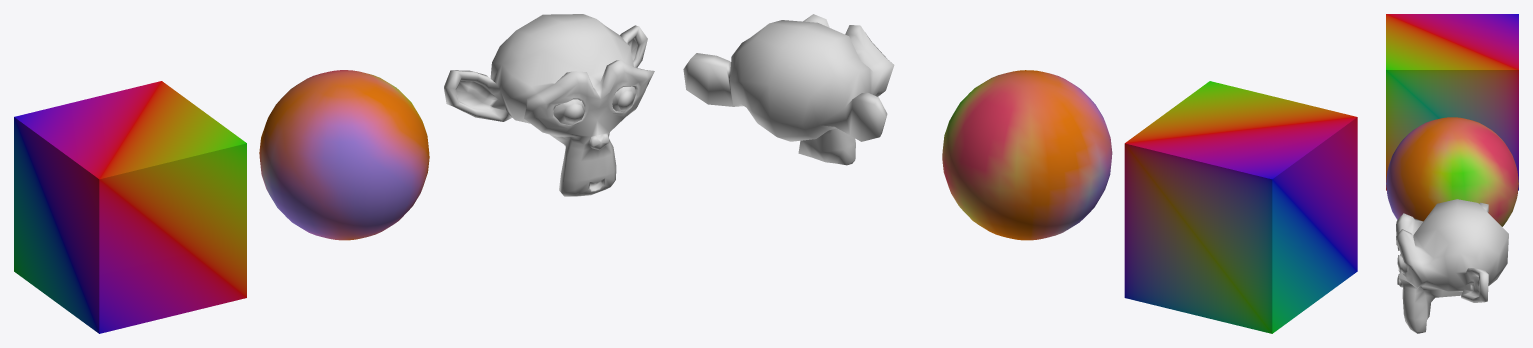
The model's file is test sphere metallic.glb.
3 views of the same model, side by side, from view 1: azimuth 30°, elevation 25°; view 2: azimuth 150°, elevation 25°; view 3: azimuth 270°, elevation 25° (orthographic). The views are drawn at different scales.
Parts seen in each view (by area): view 1: Sphere; view 2: Sphere; view 3: Sphere.
Part boxes in pixels (x1=…): Sphere: x1=14, y1=14, x2=654, y2=333; Sphere: x1=683, y1=14, x2=1357, y2=333; Sphere: x1=1386, y1=14, x2=1518, y2=333.
Bounding box in the file's own units: 8.26 × 2 × 2.
